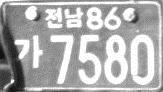0: (130, 33, 155, 86)
5: (77, 33, 102, 85)
6: (103, 5, 121, 30)
7: (49, 32, 74, 85)
8: (103, 33, 129, 85), (86, 6, 103, 30)
가: (13, 34, 44, 68)
전남_O: (43, 6, 84, 29)
